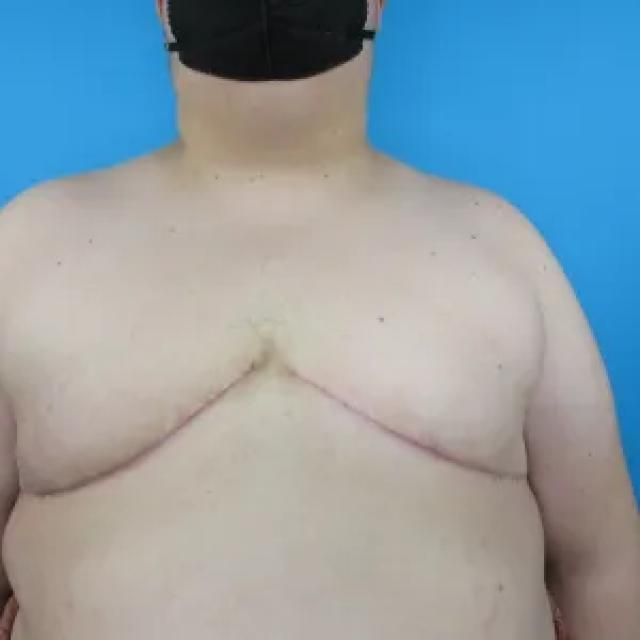Seno herido: (276, 288, 536, 520), (9, 289, 265, 522)
